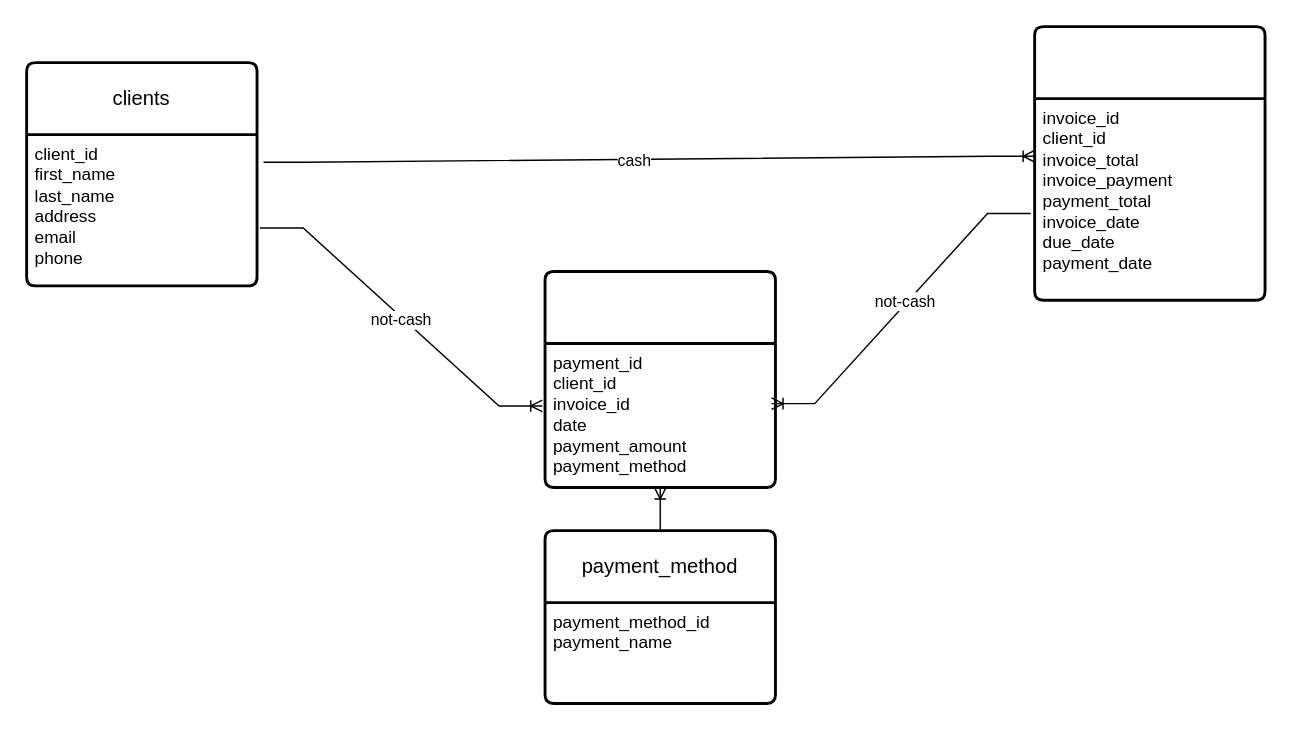
The diagram is 1290 pixels wide and 729 high, and some of its shapes have lost their labels. Here are the shapes that lost their labels. From the top down, the box of each, then its label:
(1032, 24, 1266, 301): invoices
(543, 269, 776, 488): payments
